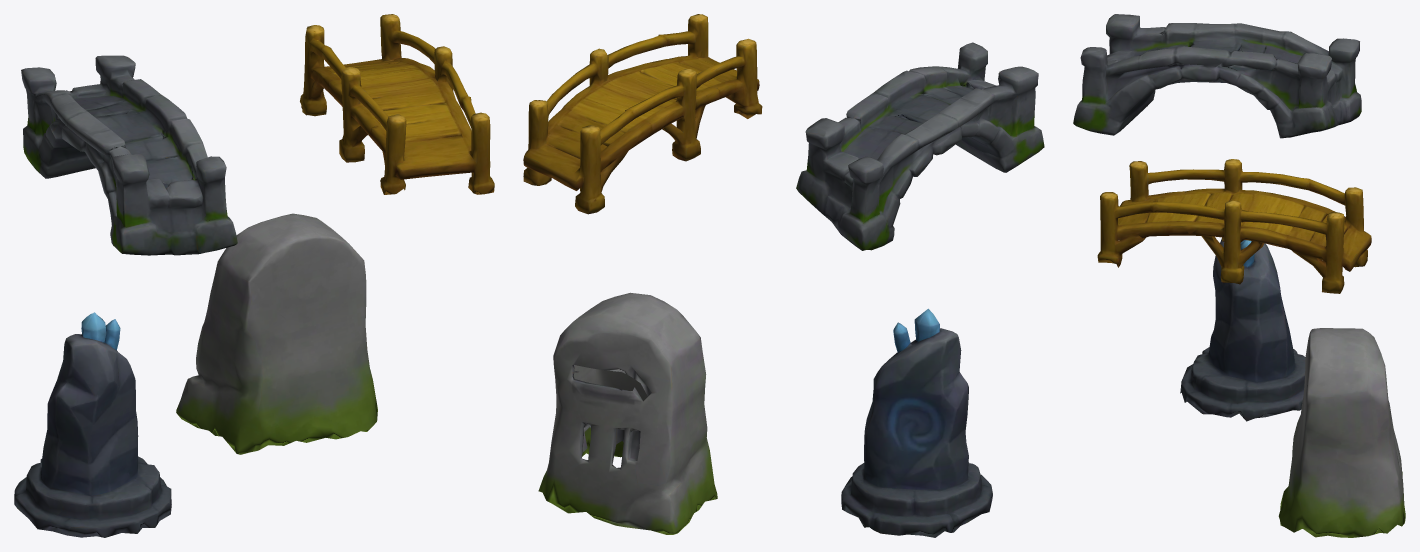
The picture shows the model from 3 angles, left to right: view 1: azimuth 30°, elevation 25°; view 2: azimuth 150°, elevation 25°; view 3: azimuth 270°, elevation 25°; orthographic projection. The views are drawn at different scales.
Parts seen in each view (by area): view 1: world; view 2: world; view 3: world.
Part boxes in pixels (bbox=[...]): world: bbox=[14, 14, 494, 537]; world: bbox=[523, 14, 1044, 537]; world: bbox=[1073, 14, 1405, 537].
Size of the model in its own units: 0.9978 by 0.952 by 0.768.
Materials: 1 (1 with a texture image).
